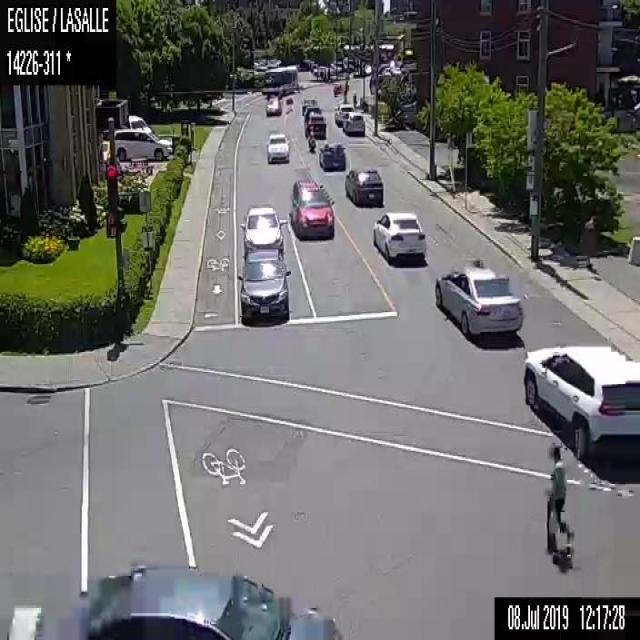bus: (260, 64, 299, 96)
pedestrian: (544, 444, 574, 572), (351, 90, 356, 106)
vehicle: (5, 561, 339, 639), (521, 343, 639, 461), (432, 262, 524, 334), (237, 246, 292, 327), (288, 175, 334, 242), (371, 209, 426, 264), (238, 204, 286, 256), (113, 126, 171, 160), (344, 167, 384, 205), (318, 140, 346, 169), (265, 130, 290, 162), (126, 113, 151, 133), (334, 102, 353, 128), (308, 112, 326, 138), (342, 113, 365, 133), (264, 94, 283, 115), (306, 126, 318, 150), (332, 81, 344, 96)
